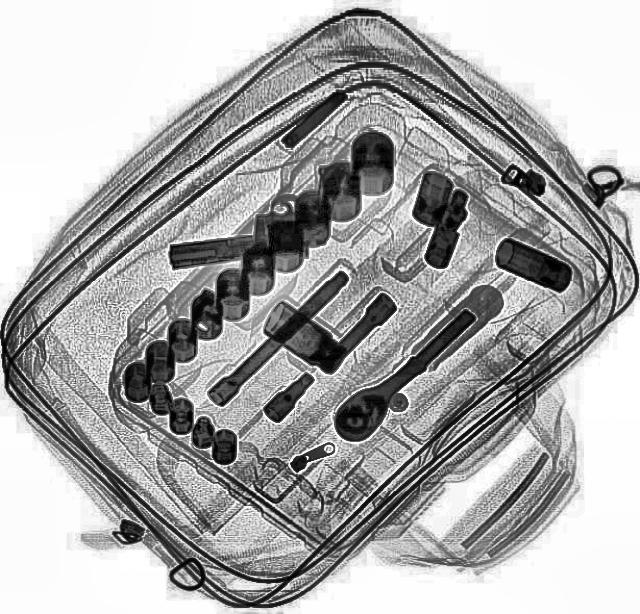Gun: (154, 160, 370, 268)
